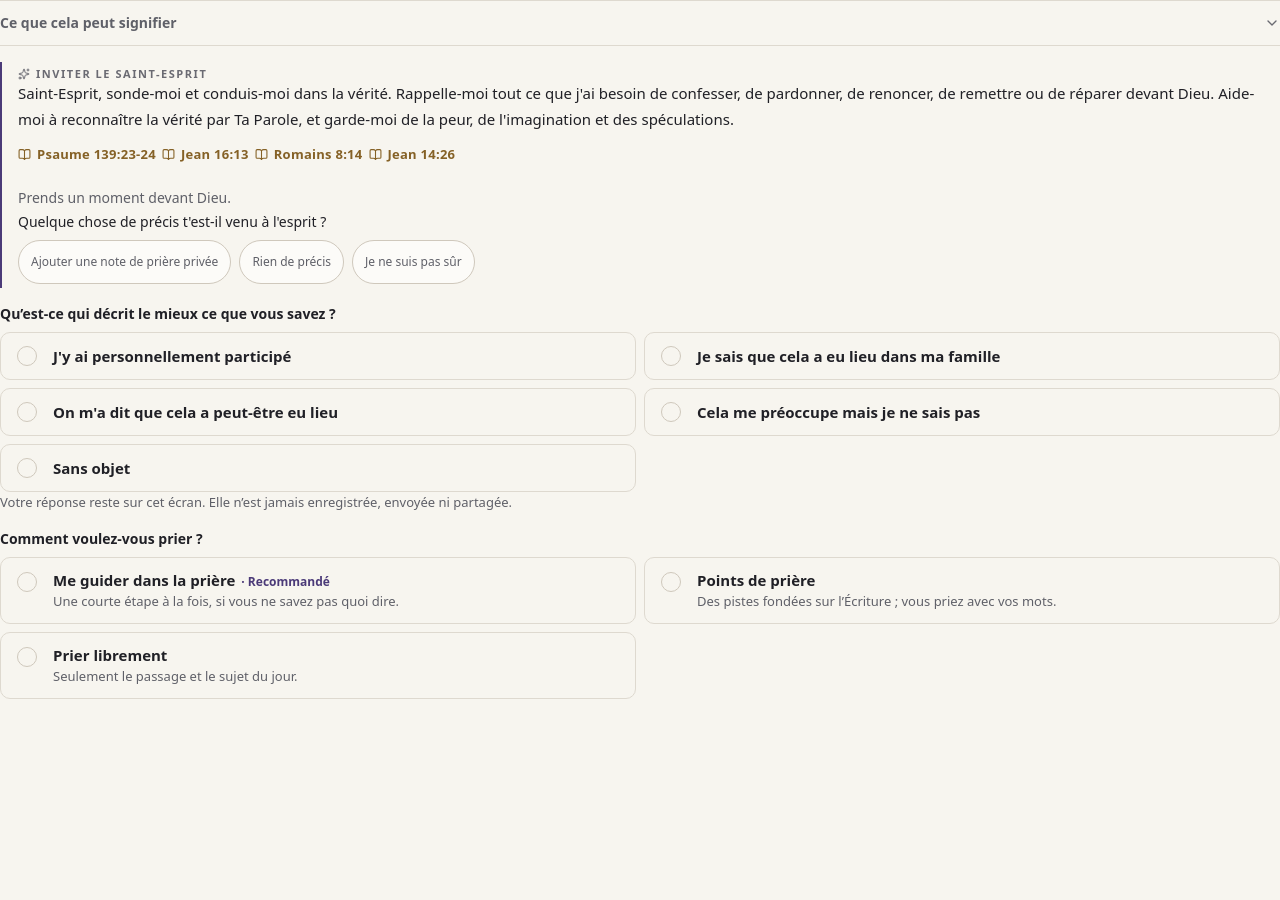
Test: the Holy Spirit invitation › never requires an answer at all before prayer is available
Click the text "Me guider dans la prière": (191, 580) [53,570,330,590]
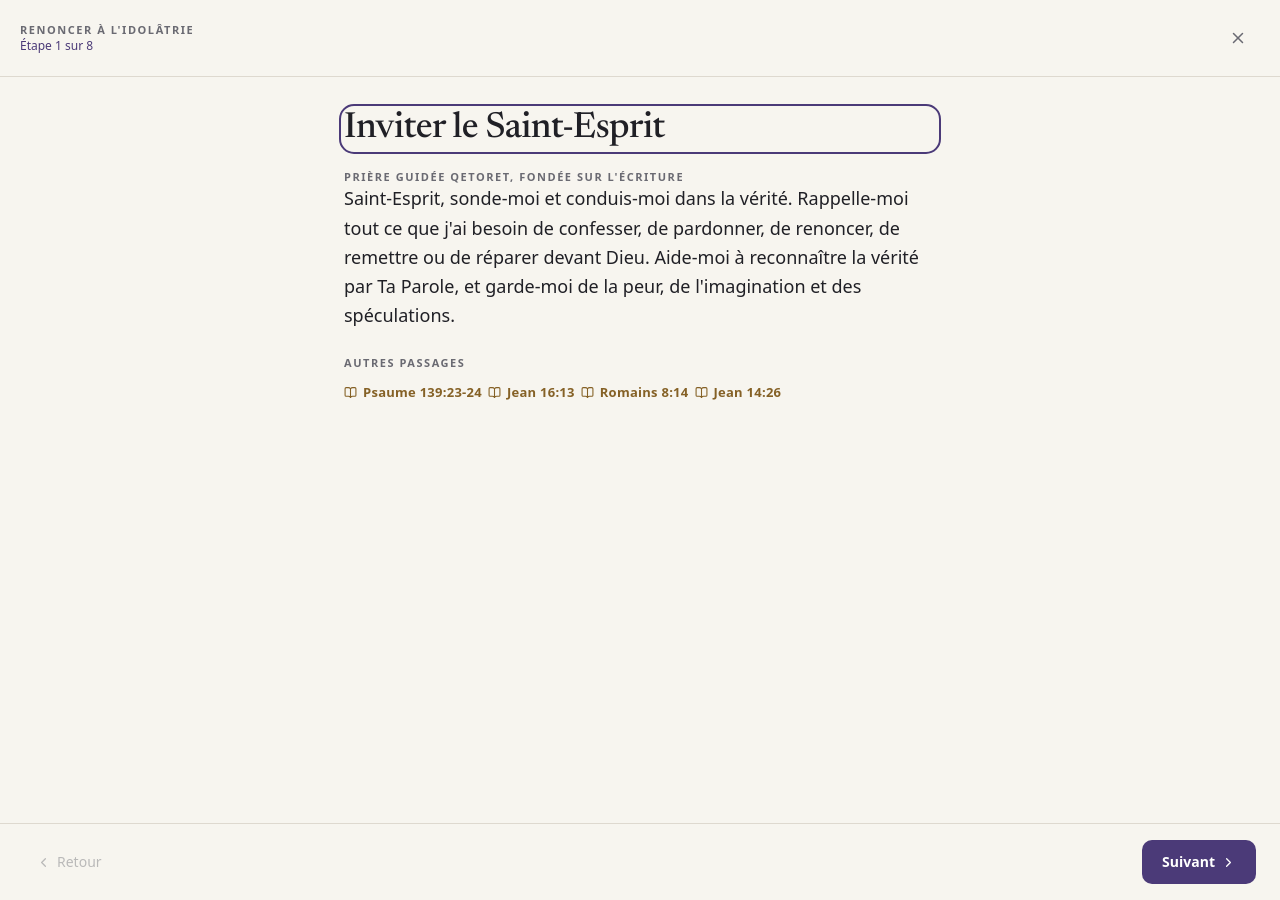
expect the dialog is shown: met
